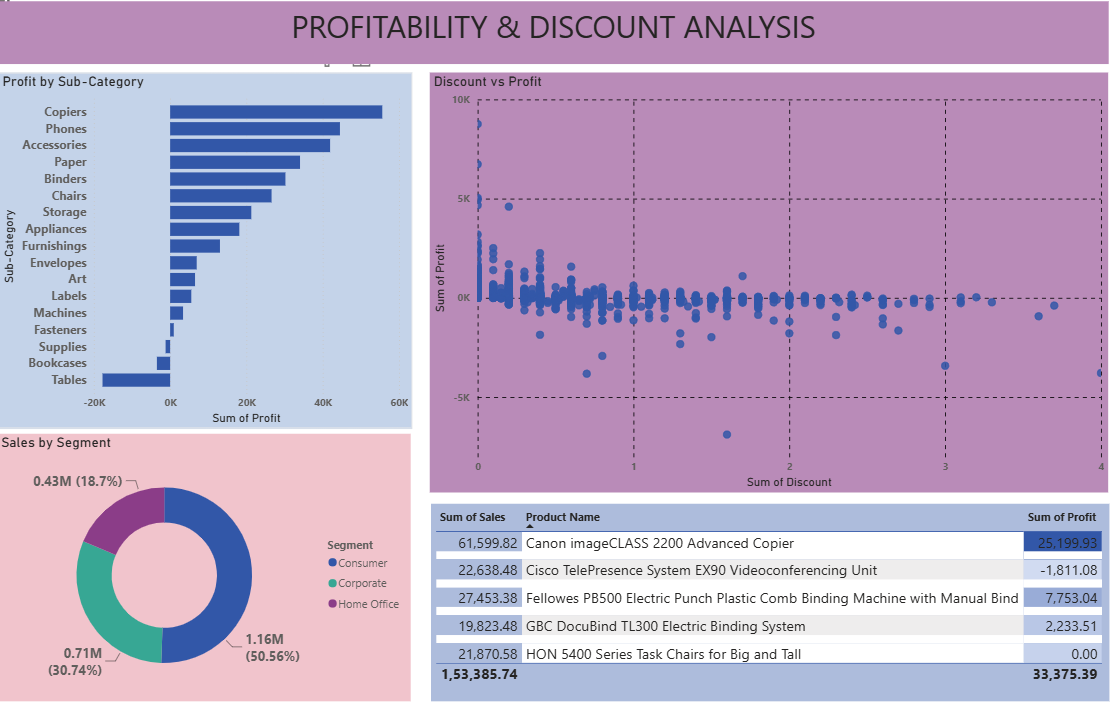

The dashboard page shown, as its layout file describes it:
{"tool":"powerbi","page":{"name":"Profitability & Discount Analysis","canvas":[1400,900],"ordinal":1},"visuals":[{"type":"clusteredBarChart","title":"Profit by Sub-Category","fields":{"Category":["Sample - Superstore.Sub-Category"],"Y":["Sum(Sample - Superstore.Profit)"]},"box":[21.4,107,505.9,435.6],"z":0},{"type":"donutChart","title":"Sales by Segment","fields":{"Y":["Sum(Sample - Superstore.Sales)"],"Category":["Sample - Superstore.Segment"]},"box":[19.9,548.7,505.9,327.1],"z":1000},{"type":"scatterChart","title":"Discount vs Profit","fields":{"X":["Sum(Sample - Superstore.Discount)"],"Y":["Sum(Sample - Superstore.Profit)"],"Category":["Sample - Superstore.Order ID"]},"box":[548.7,107,830,513.6],"z":2000},{"type":"tableEx","fields":{"Values":["Sum(Sample - Superstore.Sales)","Sample - Superstore.Product Name","Sum(Sample - Superstore.Profit)"]},"box":[550.3,634.3,830,241.5],"z":3000},{"type":"actionButton","box":[0,0,100,40],"z":4000},{"type":"textbox","box":[21.4,19.9,1357.3,76.4],"z":5000}]}

Visuals, with their boxes in screenshot pixels (x1, y1, x2, y2), scaled from the page's 1400x900 canvas onto the 1118x704 screenshot:
"Profit by Sub-Category" clusteredBarChart: pyautogui.locateOnScreen(17, 84, 421, 424)
"Sales by Segment" donutChart: pyautogui.locateOnScreen(16, 429, 420, 685)
"Discount vs Profit" scatterChart: pyautogui.locateOnScreen(438, 84, 1101, 485)
tableEx - Sum(Sample - Superstore.Sales) x Sample - Superstore.Product Name: pyautogui.locateOnScreen(439, 496, 1102, 685)
actionButton: pyautogui.locateOnScreen(0, 0, 80, 31)
textbox: pyautogui.locateOnScreen(17, 16, 1101, 75)
